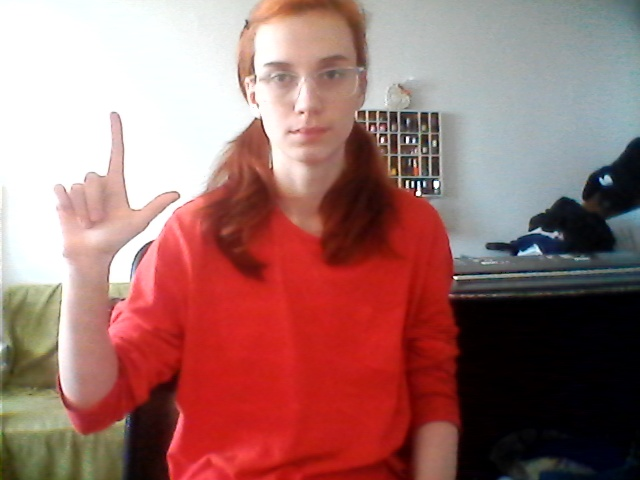l: (44, 106, 185, 253)
